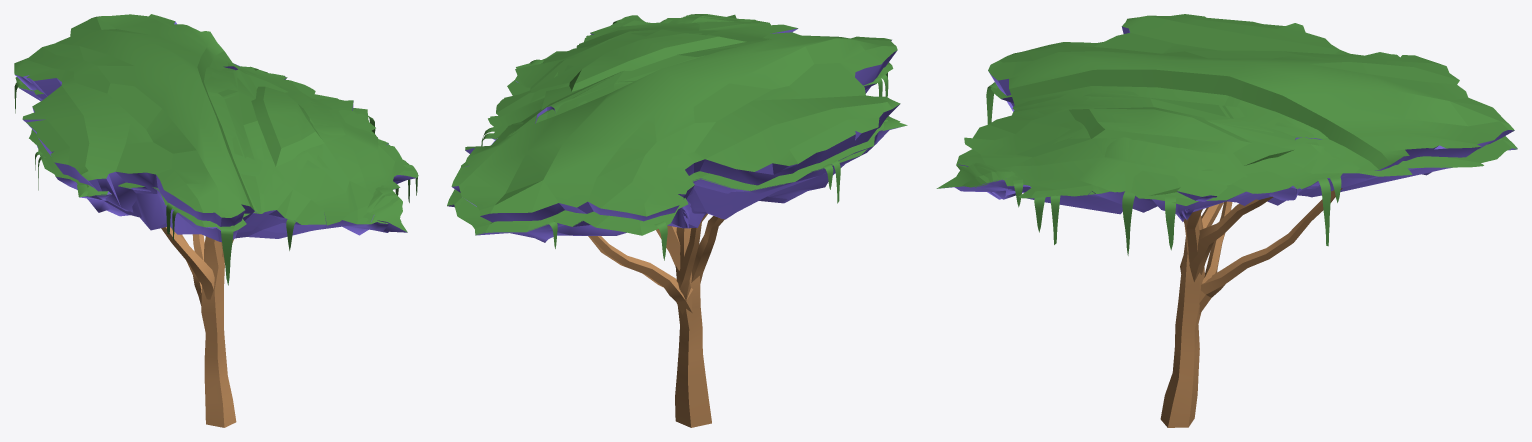
The model's file is tree_A_canopy_A_D_solo.fbx.
3 renders of one model, left to right at view 1: azimuth 30°, elevation 25°; view 2: azimuth 150°, elevation 25°; view 3: azimuth 270°, elevation 25°, orthographic. The views are drawn at different scales.
Parts seen in each view (by area): view 1: tree_A_canopy_A_D_leveled, tree_A_canopy_D, tree_A_canopy_D_holed, tree_A_canopy_D_trunk_A, tree_A_canopy_D_inset, tree_A_canopy_D_trunk_F, tree_A_canopy_D_liana_B; view 2: tree_A_canopy_A_D_leveled, tree_A_canopy_D, tree_A_canopy_D_trunk_A, tree_A_canopy_D_holed, tree_A_canopy_D_inset, tree_A_canopy_D_trunk_D, tree_A_canopy_D_trunk_C, tree_A_canopy_D_trunk_F, tree_A_canopy_D_trunk_E; view 3: tree_A_canopy_A_D_leveled, tree_A_canopy_D, tree_A_canopy_D_holed, tree_A_canopy_D_trunk_A, tree_A_canopy_D_inset, tree_A_canopy_D_trunk_D, tree_A_canopy_D_trunk_E, tree_A_canopy_D_trunk_C, tree_A_canopy_D_trunk_G.
Part boxes in pixels (x1=…): tree_A_canopy_A_D_leveled: x1=14, y1=14, x2=418, y2=242; tree_A_canopy_D: x1=18, y1=61, x2=405, y2=238; tree_A_canopy_D_holed: x1=18, y1=63, x2=394, y2=231; tree_A_canopy_D_trunk_A: x1=201, y1=236, x2=236, y2=427; tree_A_canopy_D_inset: x1=15, y1=68, x2=414, y2=232; tree_A_canopy_D_trunk_F: x1=161, y1=227, x2=214, y2=299; tree_A_canopy_D_liana_B: x1=221, y1=225, x2=234, y2=285; tree_A_canopy_A_D_leveled: x1=451, y1=15, x2=900, y2=222; tree_A_canopy_D: x1=447, y1=32, x2=900, y2=242; tree_A_canopy_D_trunk_A: x1=675, y1=227, x2=711, y2=427; tree_A_canopy_D_holed: x1=447, y1=16, x2=892, y2=235; tree_A_canopy_D_inset: x1=447, y1=14, x2=907, y2=234; tree_A_canopy_D_trunk_D: x1=588, y1=236, x2=692, y2=301; tree_A_canopy_D_trunk_C: x1=676, y1=213, x2=707, y2=314; tree_A_canopy_D_trunk_F: x1=691, y1=216, x2=724, y2=283; tree_A_canopy_D_trunk_E: x1=656, y1=225, x2=680, y2=270; tree_A_canopy_A_D_leveled: x1=954, y1=14, x2=1514, y2=221; tree_A_canopy_D: x1=962, y1=88, x2=1517, y2=219; tree_A_canopy_D_holed: x1=972, y1=89, x2=1517, y2=212; tree_A_canopy_D_trunk_A: x1=1160, y1=214, x2=1204, y2=427; tree_A_canopy_D_inset: x1=936, y1=87, x2=1517, y2=209; tree_A_canopy_D_trunk_D: x1=1200, y1=188, x2=1342, y2=297; tree_A_canopy_D_trunk_E: x1=1189, y1=196, x2=1273, y2=281; tree_A_canopy_D_trunk_C: x1=1199, y1=201, x2=1232, y2=314; tree_A_canopy_D_trunk_G: x1=1183, y1=209, x2=1202, y2=262.
Bounding box in the file's own units: 658 × 646 × 972.
